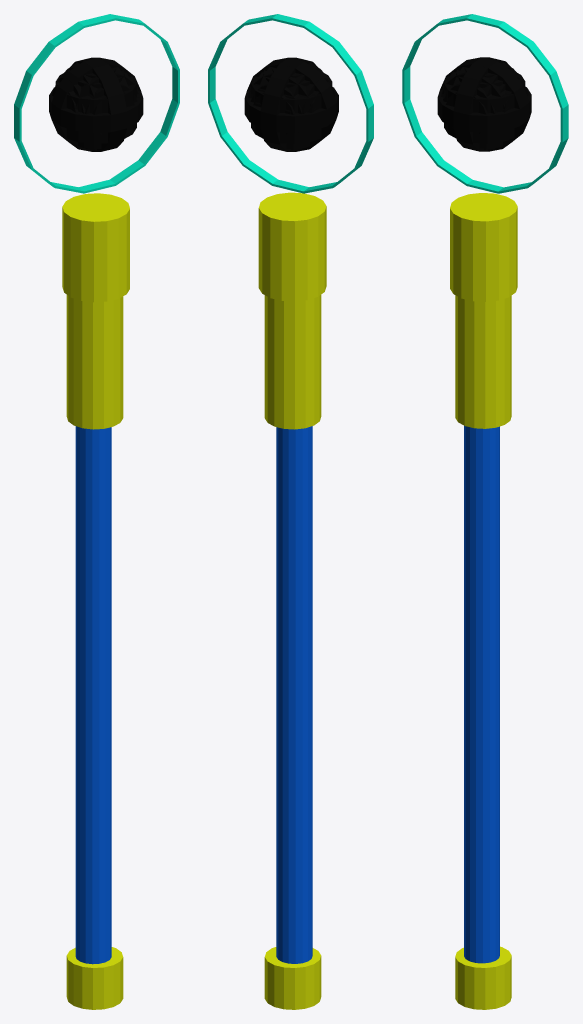
The model's file is whis_staff_db7334.glb.
The picture shows the model from 3 angles, left to right: view 1: azimuth 30°, elevation 25°; view 2: azimuth 150°, elevation 25°; view 3: azimuth 330°, elevation 25°; orthographic projection.
Visible parts, largest first — view 1: 60ce6cbd-7194-25fc-5275-b22c5cc10715_225, a3e94be8-ca8d-46e4-1a1d-a3284ad9923f_226, d56e7f46-04c1-1ac1-ff4f-eec1c9f638e9_224, 0c1e22fd-8706-f597-dd74-4987cbc1cc25_219, 4265f56b-b436-a2b3-46b1-440f9f8184a5_223, e67fefe1-affd-35a5-7a6e-7366870f7c90_220, 50553226-6a80-e8ae-ace4-b46055e22730_209, ce53bdf4-8c66-92e4-738b-0a8bb8a110b3_218, 37d8b6d7-8ad6-0a1f-e7f9-5d9d585a5f10_217, b1a03d43-6b92-e4ea-5e92-d52a56ee8724_203, a5dfb409-6b0b-f629-fb30-34661c2236fe_211, 6e35aee5-c602-823c-cec0-53295fc1c092_216 (+15 smaller); view 2: dbd65a2f-88a8-3229-429f-667e9c3f10d3_222, 4265f56b-b436-a2b3-46b1-440f9f8184a5_223, d56e7f46-04c1-1ac1-ff4f-eec1c9f638e9_224, 288a6888-c820-ea92-171e-1ec533ad7d21_221, 60ce6cbd-7194-25fc-5275-b22c5cc10715_225, e67fefe1-affd-35a5-7a6e-7366870f7c90_220, a3e94be8-ca8d-46e4-1a1d-a3284ad9923f_226, 3865268d-b38c-b044-d8a7-76f1614b09f6_214, edb847ab-61ab-7531-1f47-c523d280e96a_215, fbaed2d5-0174-1067-6a70-a37e42108bfb_205, 48bd06f3-f3f5-18f4-3392-4a0ae9577f8d_206, a0d640ce-8591-6e1e-b3b6-185a3fd7e696_207 (+16 smaller); view 3: 4265f56b-b436-a2b3-46b1-440f9f8184a5_223, dbd65a2f-88a8-3229-429f-667e9c3f10d3_222, d56e7f46-04c1-1ac1-ff4f-eec1c9f638e9_224, 288a6888-c820-ea92-171e-1ec533ad7d21_221, 60ce6cbd-7194-25fc-5275-b22c5cc10715_225, e67fefe1-affd-35a5-7a6e-7366870f7c90_220, edb847ab-61ab-7531-1f47-c523d280e96a_215, 3865268d-b38c-b044-d8a7-76f1614b09f6_214, 6e35aee5-c602-823c-cec0-53295fc1c092_216, aa50fb40-07f7-85a2-af5b-3ad6cb4bdd85_208, 48bd06f3-f3f5-18f4-3392-4a0ae9577f8d_206, a0d640ce-8591-6e1e-b3b6-185a3fd7e696_207 (+14 smaller).
Part boxes in pixels (left/top/right/bottom): 60ce6cbd-7194-25fc-5275-b22c5cc10715_225: left=92, top=429, right=99, bottom=964; a3e94be8-ca8d-46e4-1a1d-a3284ad9923f_226: left=85, top=428, right=92, bottom=963; d56e7f46-04c1-1ac1-ff4f-eec1c9f638e9_224: left=99, top=428, right=105, bottom=963; 0c1e22fd-8706-f597-dd74-4987cbc1cc25_219: left=80, top=427, right=85, bottom=963; 4265f56b-b436-a2b3-46b1-440f9f8184a5_223: left=105, top=427, right=109, bottom=961; e67fefe1-affd-35a5-7a6e-7366870f7c90_220: left=76, top=426, right=79, bottom=961; 50553226-6a80-e8ae-ace4-b46055e22730_209: left=85, top=193, right=107, bottom=302; ce53bdf4-8c66-92e4-738b-0a8bb8a110b3_218: left=82, top=301, right=92, bottom=429; 37d8b6d7-8ad6-0a1f-e7f9-5d9d585a5f10_217: left=93, top=301, right=103, bottom=429; b1a03d43-6b92-e4ea-5e92-d52a56ee8724_203: left=70, top=194, right=121, bottom=300; a5dfb409-6b0b-f629-fb30-34661c2236fe_211: left=73, top=298, right=82, bottom=427; 6e35aee5-c602-823c-cec0-53295fc1c092_216: left=104, top=300, right=113, bottom=428; dbd65a2f-88a8-3229-429f-667e9c3f10d3_222: left=295, top=428, right=302, bottom=963; 4265f56b-b436-a2b3-46b1-440f9f8184a5_223: left=288, top=429, right=295, bottom=963; d56e7f46-04c1-1ac1-ff4f-eec1c9f638e9_224: left=282, top=428, right=288, bottom=963; 288a6888-c820-ea92-171e-1ec533ad7d21_221: left=302, top=427, right=307, bottom=962; 60ce6cbd-7194-25fc-5275-b22c5cc10715_225: left=278, top=427, right=282, bottom=961; e67fefe1-affd-35a5-7a6e-7366870f7c90_220: left=308, top=426, right=311, bottom=961; a3e94be8-ca8d-46e4-1a1d-a3284ad9923f_226: left=276, top=427, right=278, bottom=959; 3865268d-b38c-b044-d8a7-76f1614b09f6_214: left=295, top=300, right=305, bottom=429; edb847ab-61ab-7531-1f47-c523d280e96a_215: left=284, top=301, right=294, bottom=429; fbaed2d5-0174-1067-6a70-a37e42108bfb_205: left=267, top=194, right=318, bottom=299; 48bd06f3-f3f5-18f4-3392-4a0ae9577f8d_206: left=278, top=192, right=307, bottom=301; a0d640ce-8591-6e1e-b3b6-185a3fd7e696_207: left=281, top=192, right=302, bottom=301; 4265f56b-b436-a2b3-46b1-440f9f8184a5_223: left=476, top=428, right=482, bottom=963; dbd65a2f-88a8-3229-429f-667e9c3f10d3_222: left=483, top=428, right=489, bottom=963; d56e7f46-04c1-1ac1-ff4f-eec1c9f638e9_224: left=470, top=427, right=475, bottom=962; 288a6888-c820-ea92-171e-1ec533ad7d21_221: left=490, top=428, right=495, bottom=962; 60ce6cbd-7194-25fc-5275-b22c5cc10715_225: left=465, top=426, right=469, bottom=961; e67fefe1-affd-35a5-7a6e-7366870f7c90_220: left=495, top=427, right=498, bottom=960; edb847ab-61ab-7531-1f47-c523d280e96a_215: left=474, top=301, right=485, bottom=428; 3865268d-b38c-b044-d8a7-76f1614b09f6_214: left=485, top=301, right=495, bottom=428; 6e35aee5-c602-823c-cec0-53295fc1c092_216: left=464, top=299, right=474, bottom=427; aa50fb40-07f7-85a2-af5b-3ad6cb4bdd85_208: left=461, top=193, right=505, bottom=301; 48bd06f3-f3f5-18f4-3392-4a0ae9577f8d_206: left=469, top=193, right=498, bottom=301; a0d640ce-8591-6e1e-b3b6-185a3fd7e696_207: left=473, top=193, right=494, bottom=301.
Bounding box in the file's own units: 0.5 × 2.92 × 0.25.
Materials: 1 (1 with a texture image).
